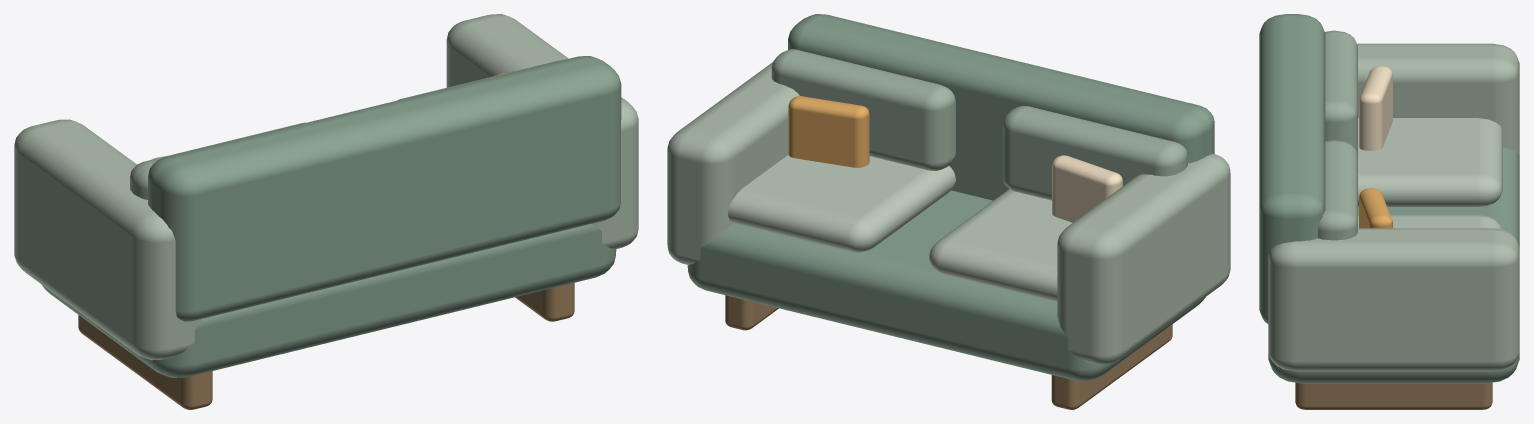
File: sofa.glb
3 views of the same model, side by side, from view 1: azimuth 30°, elevation 25°; view 2: azimuth 150°, elevation 25°; view 3: azimuth 270°, elevation 25° (orthographic). The views are drawn at different scales.
Visible parts, largest first — view 1: lounge-sofa; view 2: lounge-sofa; view 3: lounge-sofa.
Part boxes in pixels (left/top/right/bottom): lounge-sofa: left=14, top=14, right=638, bottom=409; lounge-sofa: left=667, top=14, right=1230, bottom=409; lounge-sofa: left=1259, top=14, right=1519, bottom=409.
Size of the model in its own units: 2.05 by 1 by 1.05.
